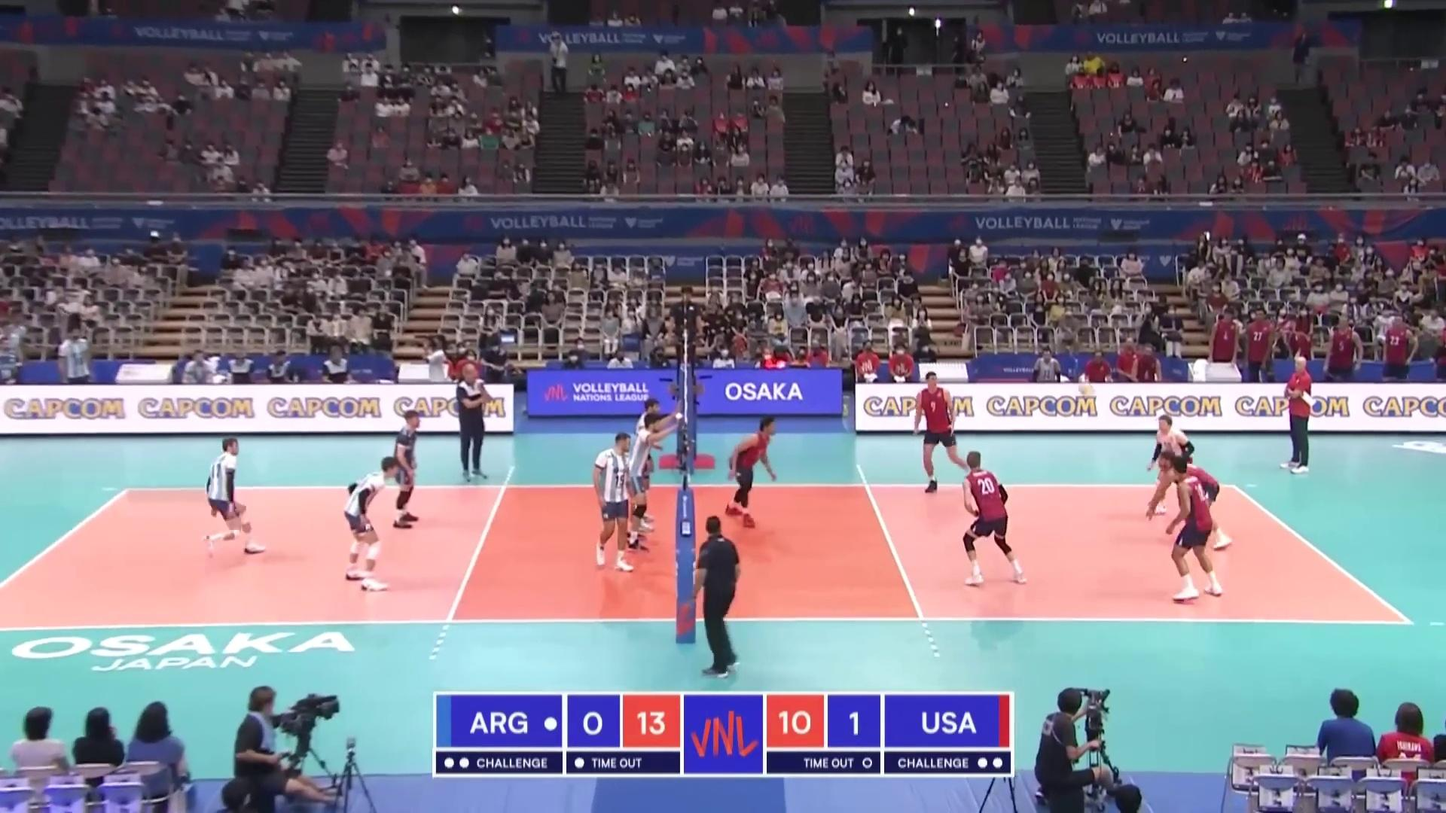player: (962, 450, 1028, 587), (338, 457, 400, 591), (1165, 457, 1222, 602), (913, 372, 980, 492), (1155, 452, 1233, 553), (202, 438, 267, 554), (593, 432, 634, 577), (726, 418, 780, 528), (627, 415, 670, 553), (1148, 416, 1196, 518), (630, 397, 664, 535), (390, 412, 428, 533)
refree: (691, 513, 743, 677), (670, 288, 703, 379)
